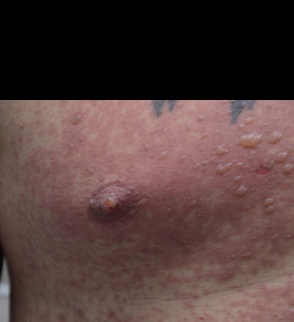SJS-TEN: (9, 100, 294, 322)
